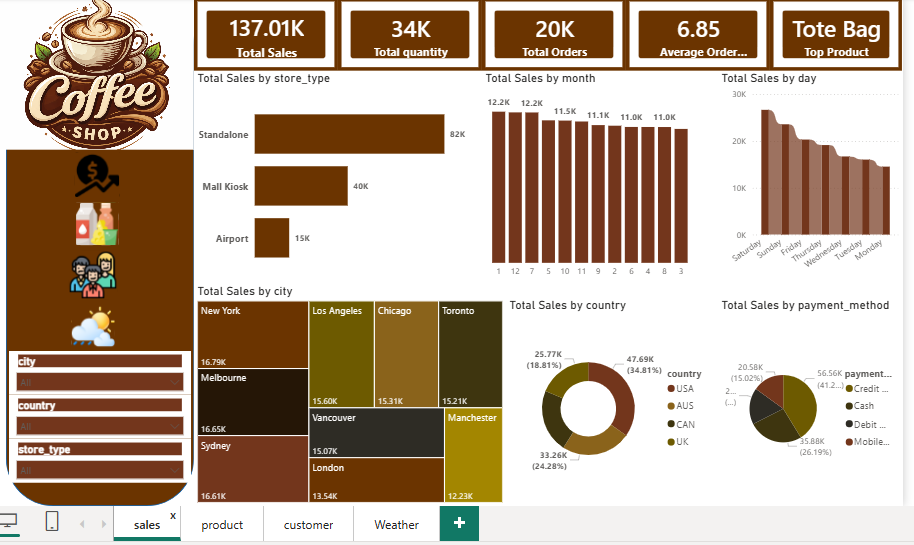

Layout of this report page (visuals, bound fields, positions):
{"tool":"powerbi","page":{"name":"sales","canvas":[1280,720],"ordinal":0},"visuals":[{"type":"shape","box":[9.9,0,266.5,720],"z":0},{"type":"image","box":[0,0,276.4,215.4],"z":1000},{"type":"cardVisual","fields":{"Data":["clean_data.Total Sales"]},"box":[276.4,0,204.1,103.5],"z":2000},{"type":"cardVisual","fields":{"Data":["clean_data.Total quantity"]},"box":[480.5,0,204.1,103.5],"z":3000},{"type":"cardVisual","fields":{"Data":["clean_data.Total Orders"]},"box":[684.6,0,204.1,103.5],"z":4000},{"type":"cardVisual","fields":{"Data":["clean_data.Average Order Value"]},"box":[888.7,0,204.1,103.5],"z":5000},{"type":"cardVisual","fields":{"Data":["clean_data.Top Product"]},"box":[1092.8,0,187.1,103.5],"z":6000},{"type":"treemap","fields":{"Values":["clean_data.Total Sales"],"Details":["clean_data.city"]},"box":[276.4,405.4,442.2,314.6],"z":7000},{"type":"donutChart","fields":{"Y":["clean_data.Total Sales"],"Category":["clean_data.country"]},"box":[718.6,425.2,300.5,294.8],"z":8000},{"type":"pieChart","fields":{"Y":["clean_data.Total Sales"],"Category":["clean_data.payment_method"]},"box":[1019.1,425.2,260.8,294.8],"z":9000},{"type":"clusteredBarChart","fields":{"Y":["clean_data.Total Sales"],"Category":["clean_data.store_type"]},"box":[276.4,103.5,408.2,301.9],"z":10000},{"type":"clusteredColumnChart","fields":{"Y":["clean_data.Total Sales"],"Category":["clean_data.month"]},"box":[684.6,103.5,306.1,301.9],"z":11000},{"type":"ribbonChart","fields":{"Y":["clean_data.Total Sales"],"Category":["clean_data.day"]},"box":[1019.1,103.5,260.8,301.9],"z":12000},{"type":"actionButton","box":[49.6,215.4,178.6,70.9],"z":13000},{"type":"actionButton","box":[82.2,286.3,113.4,68],"z":14000},{"type":"actionButton","box":[95,354.3,100.6,76.5],"z":15000},{"type":"actionButton","box":[70.9,430.9,124.7,69.4],"z":16000},{"type":"slicer","fields":{"Values":["clean_data.city"]},"box":[14.2,500.3,258,62.4],"z":17000},{"type":"slicer","fields":{"Values":["clean_data.country"]},"box":[14.2,562.7,258,62.4],"z":18000},{"type":"slicer","fields":{"Values":["clean_data.store_type"]},"box":[14.2,625,258,62.4],"z":19000}]}

Visuals, with their boxes on the page's 1280x720 design canvas (x1, y1, x2, y2). These are canvas units, not pixel positions in the 914x545 screenshot, which may show the page scaled, cropped or inside an application window:
shape: bbox=[10, 0, 276, 720]
image: bbox=[0, 0, 276, 215]
cardVisual - clean_data.Total Sales: bbox=[276, 0, 480, 104]
cardVisual - clean_data.Total quantity: bbox=[480, 0, 685, 104]
cardVisual - clean_data.Total Orders: bbox=[685, 0, 889, 104]
cardVisual - clean_data.Average Order Value: bbox=[889, 0, 1093, 104]
cardVisual - clean_data.Top Product: bbox=[1093, 0, 1280, 104]
treemap - clean_data.Total Sales x clean_data.city: bbox=[276, 405, 719, 720]
donutChart - clean_data.Total Sales x clean_data.country: bbox=[719, 425, 1019, 720]
pieChart - clean_data.Total Sales x clean_data.payment_method: bbox=[1019, 425, 1280, 720]
clusteredBarChart - clean_data.Total Sales x clean_data.store_type: bbox=[276, 104, 685, 405]
clusteredColumnChart - clean_data.Total Sales x clean_data.month: bbox=[685, 104, 991, 405]
ribbonChart - clean_data.Total Sales x clean_data.day: bbox=[1019, 104, 1280, 405]
actionButton: bbox=[50, 215, 228, 286]
actionButton: bbox=[82, 286, 196, 354]
actionButton: bbox=[95, 354, 196, 431]
actionButton: bbox=[71, 431, 196, 500]
slicer - clean_data.city: bbox=[14, 500, 272, 563]
slicer - clean_data.country: bbox=[14, 563, 272, 625]
slicer - clean_data.store_type: bbox=[14, 625, 272, 687]
